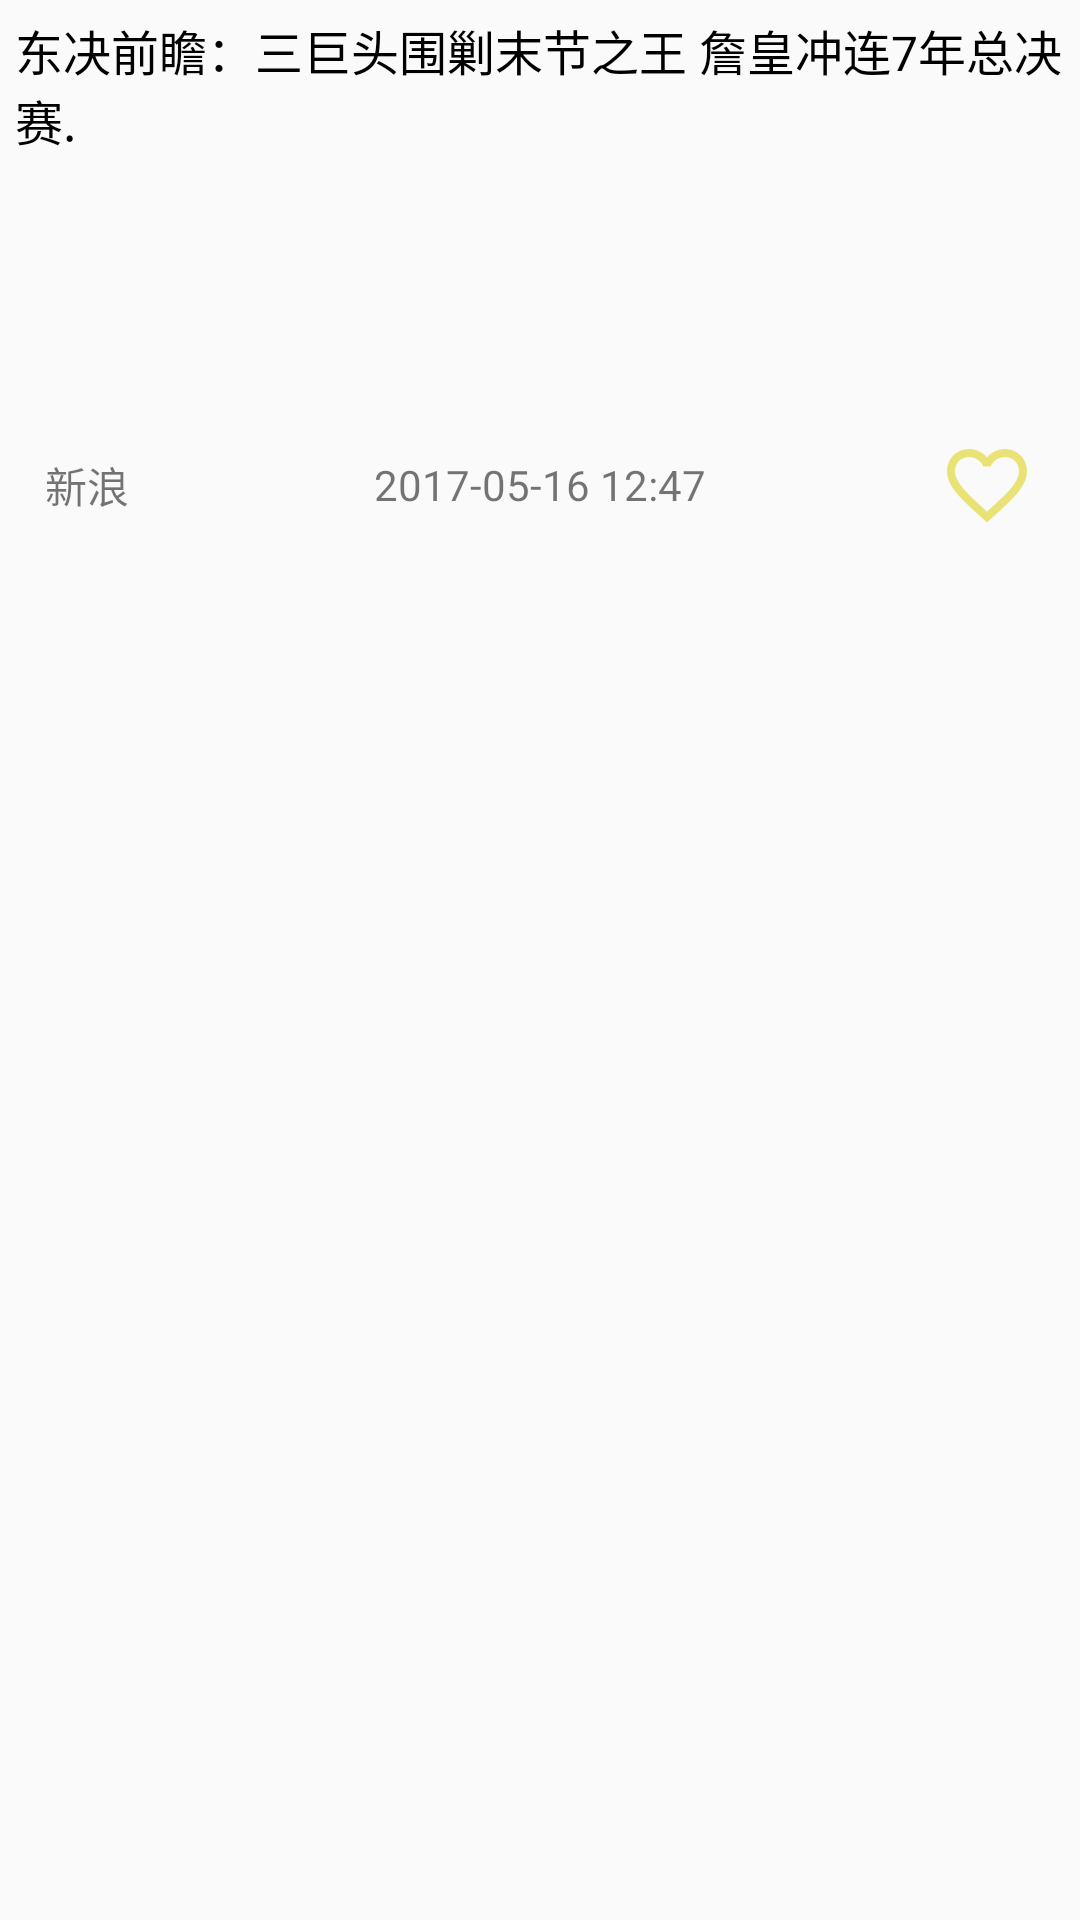

Icons on this 1080*1920 Android screen, each with its box as box(x1, y1, x2, y2):
favourite: box(947, 449, 1027, 522)
